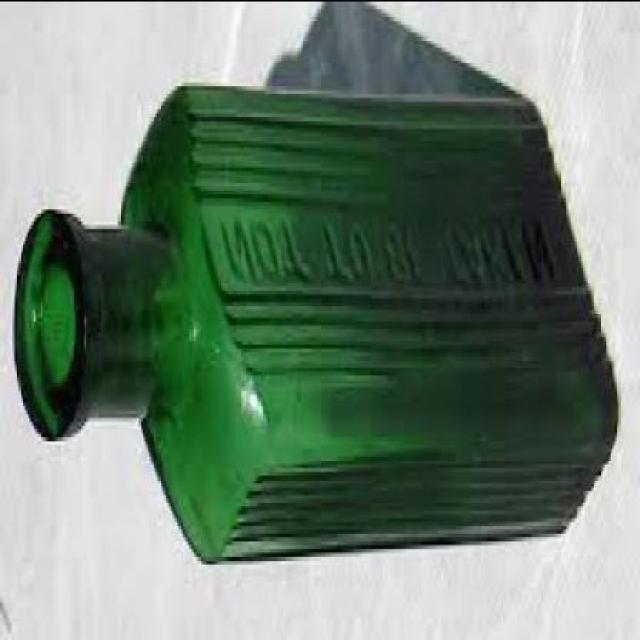GLASS: (11, 81, 614, 558)
